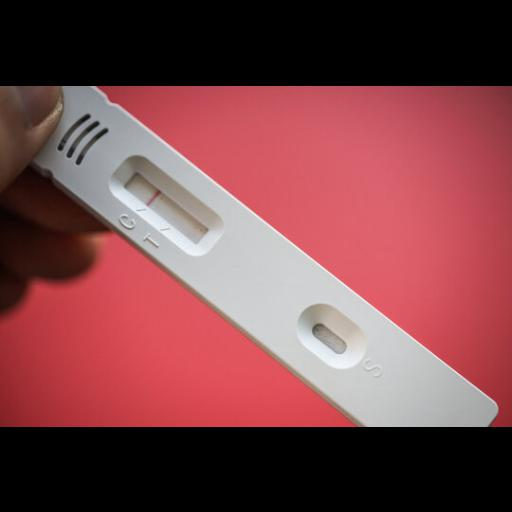Neg: (39, 93, 440, 426)
